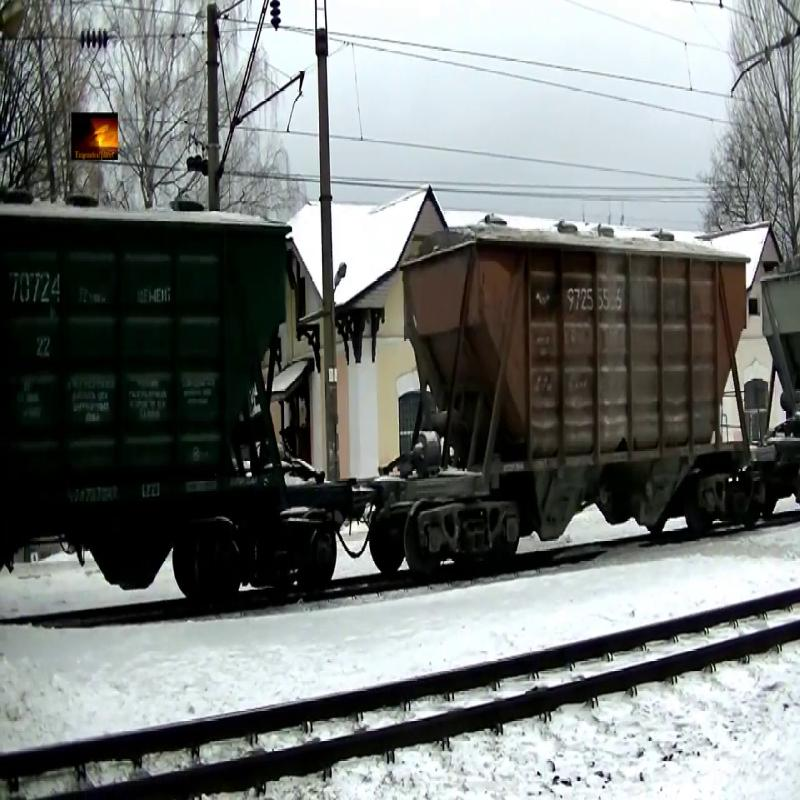train: (369, 224, 749, 570)
